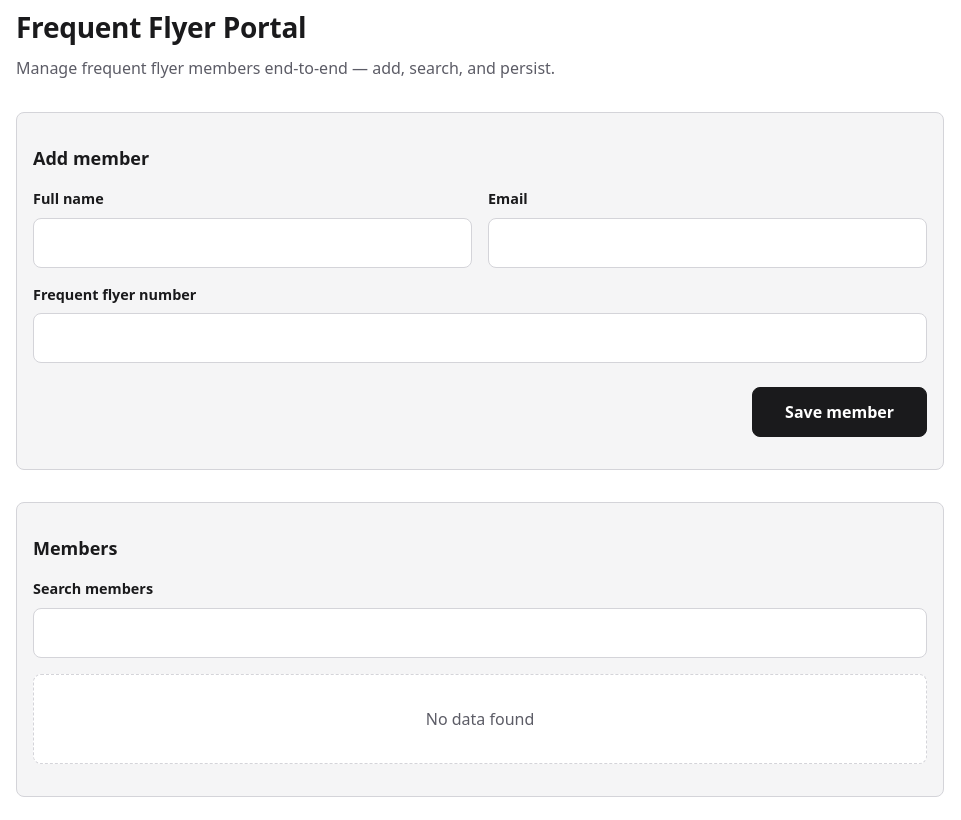
Test: <App /> integration (Happy + Unhappy paths) › adds a member and shows it in the table
This screenshot has width=961, height=820.
Type "Yash Raj" into the field labelled "Full name" at (252, 243), box x1=33 y1=218 x2=472 y2=268
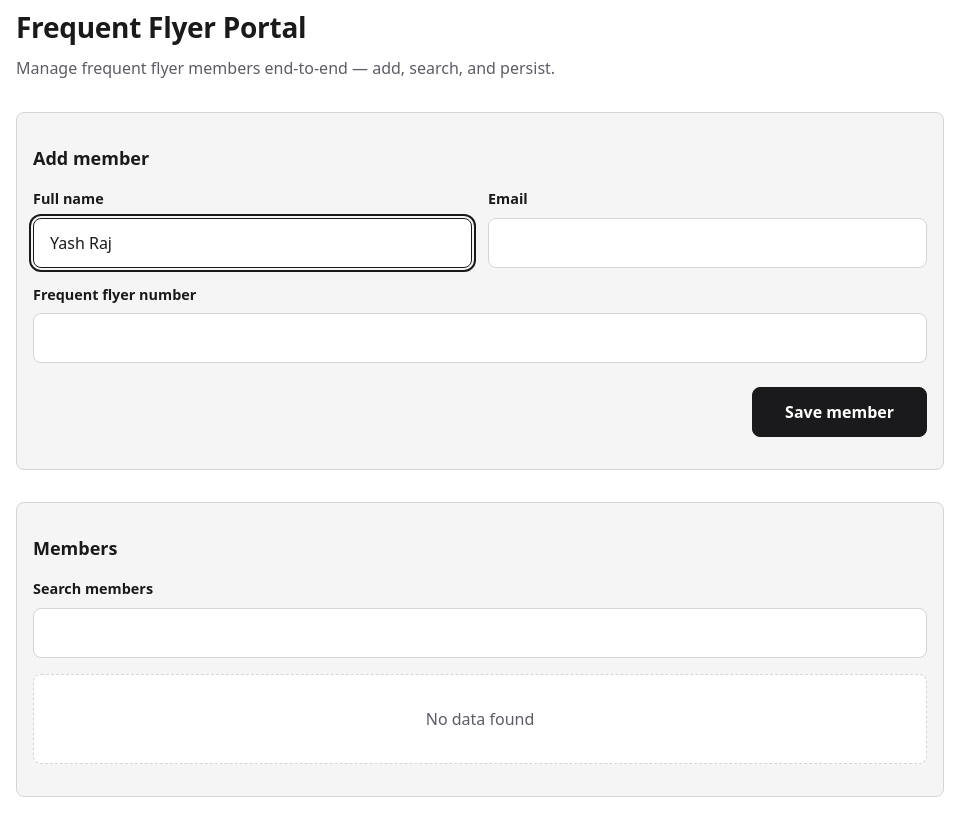
Type "yash@example.com" into the field labelled "Email" at (708, 243), box x1=488 y1=218 x2=927 y2=268
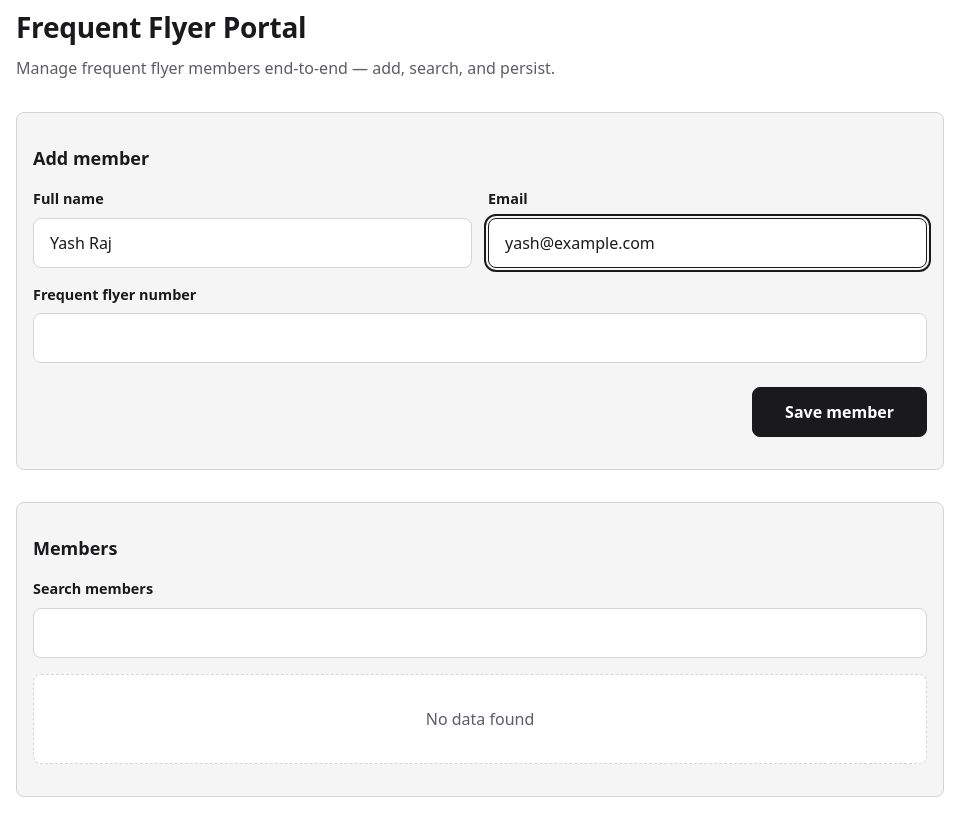
Type "FF12345" into the field labelled "Frequent flyer number" at (480, 338), box x1=33 y1=313 x2=927 y2=363
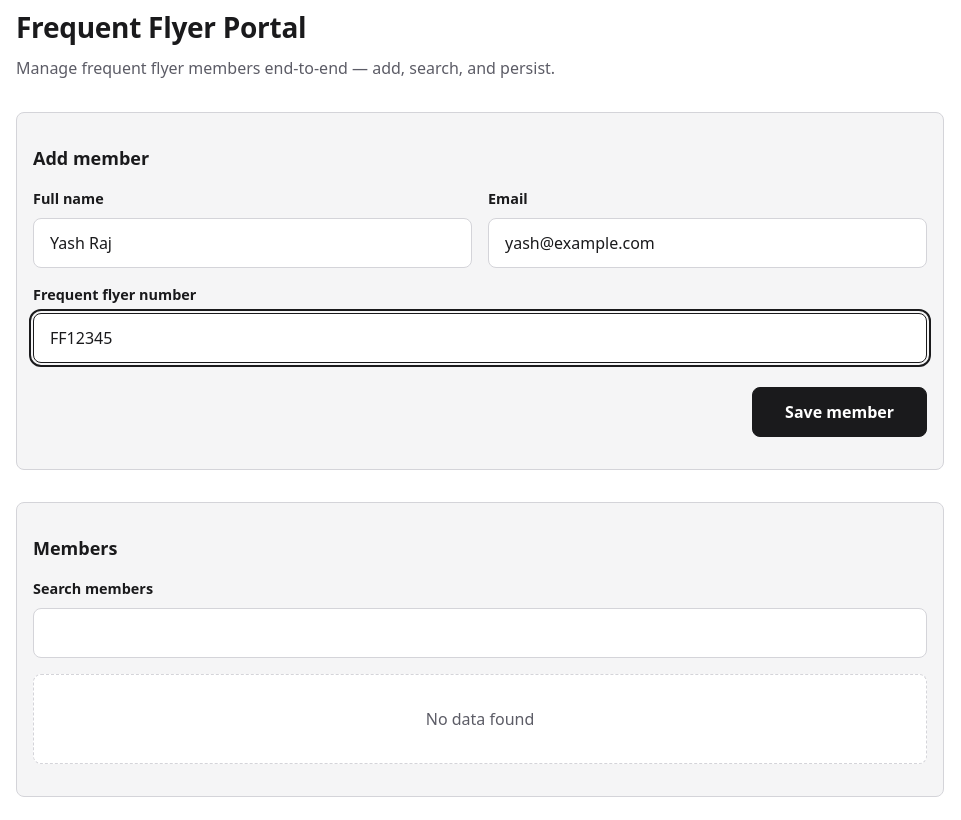
Click the button "Save member" at (840, 412), box x1=752 y1=387 x2=927 y2=437
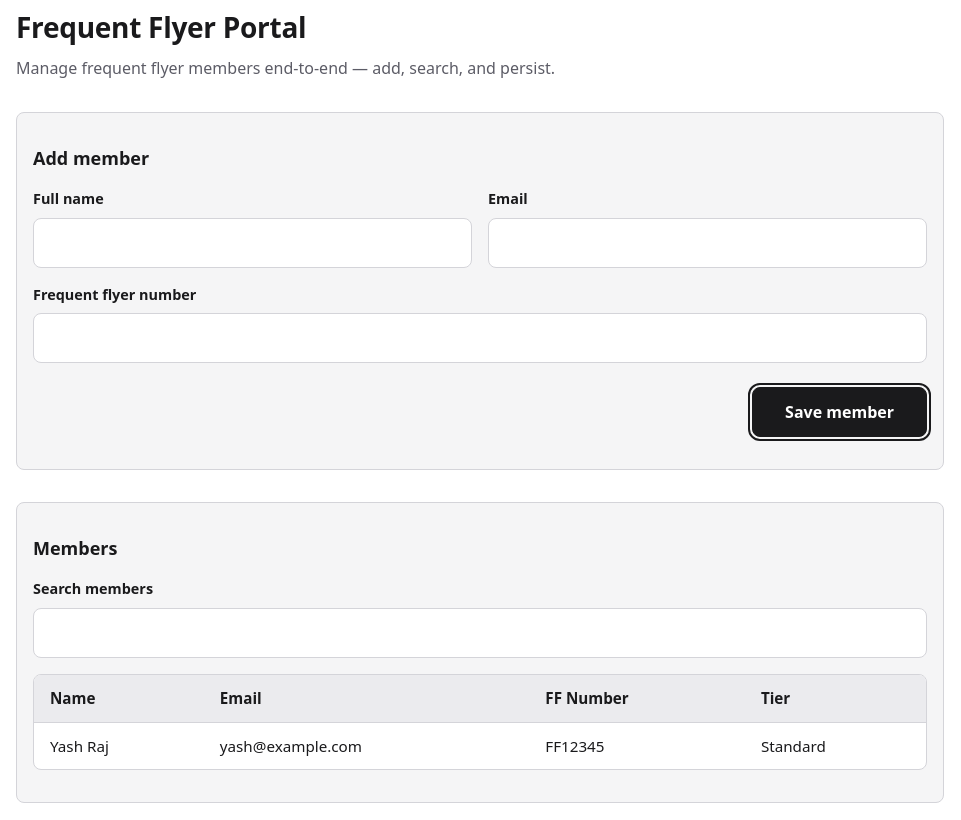
Now the text "Yash Raj" is shown, box x1=34 y1=723 x2=204 y2=769
